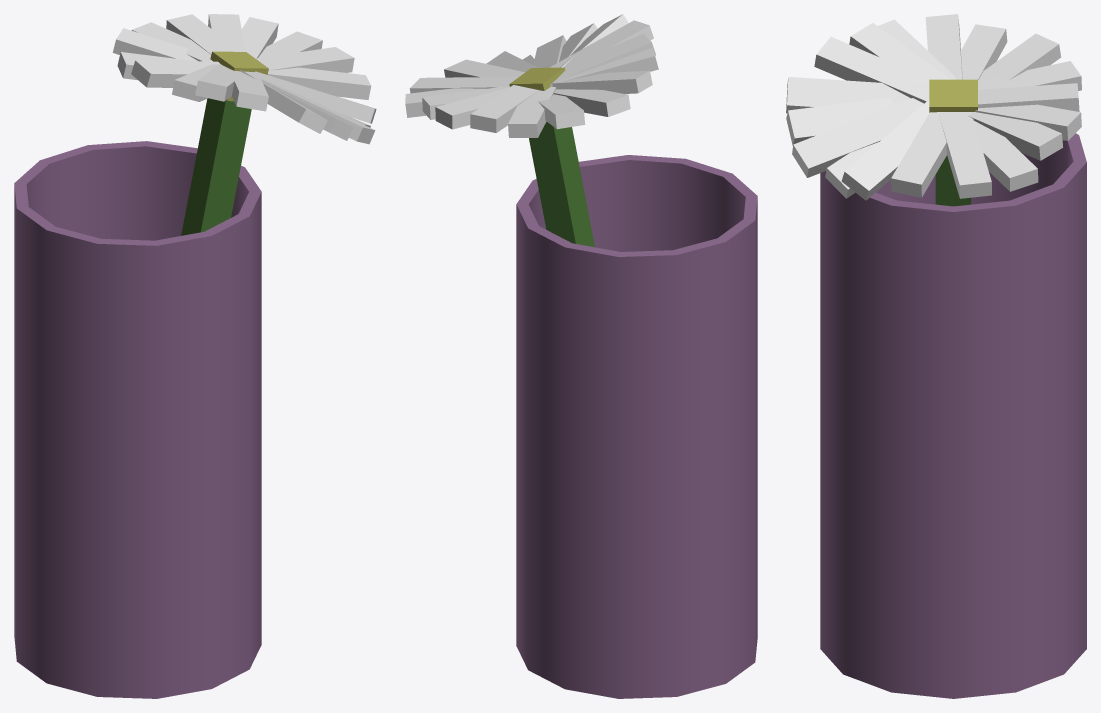
Rendered from potdfleur.fbx.
3 views of the same model, side by side, from view 1: azimuth 30°, elevation 25°; view 2: azimuth 150°, elevation 25°; view 3: azimuth 270°, elevation 25° (orthographic). The views are drawn at different scales.
Visible parts, largest first — view 1: pCylinder1, pCube1, pCube8, pCube9, pCube17, pCube7, pCube15, pCube13, pCube20, pCube3, pCube19, pCube11 (+8 smaller); view 2: pCylinder1, pCube1, pCube13, pCube17, pCube16, pCube14, pCube19, pCube9, pCube20, pCube12, pCube18, pCube15 (+6 smaller); view 3: pCylinder1, pCube5, pCube7, pCube20, pCube9, pCube3, pCube8, pCube4, pCube19, pCube10, pCube11, pCube13 (+9 smaller).
Part boxes in pixels (left/top/right/bottom): pCylinder1: left=14, top=141, right=261, bottom=698; pCube1: left=181, top=98, right=251, bottom=235; pCube8: left=267, top=67, right=371, bottom=99; pCube9: left=256, top=47, right=354, bottom=72; pCube17: left=131, top=60, right=220, bottom=87; pCube7: left=255, top=71, right=376, bottom=123; pCube15: left=112, top=28, right=197, bottom=61; pCube13: left=166, top=14, right=240, bottom=54; pCube20: left=229, top=68, right=268, bottom=111; pCube3: left=240, top=70, right=327, bottom=133; pCube19: left=195, top=64, right=246, bottom=101; pCube11: left=241, top=17, right=278, bottom=58; pCylinder1: left=516, top=155, right=757, bottom=698; pCube1: left=529, top=121, right=594, bottom=247; pCube13: left=470, top=85, right=538, bottom=132; pCube17: left=550, top=70, right=652, bottom=93; pCube16: left=553, top=89, right=630, bottom=116; pCube14: left=508, top=86, right=556, bottom=137; pCube19: left=556, top=33, right=655, bottom=80; pCube9: left=409, top=76, right=518, bottom=93; pCube20: left=550, top=20, right=653, bottom=71; pCube12: left=435, top=87, right=508, bottom=129; pCube18: left=550, top=48, right=658, bottom=86; pCube15: left=538, top=94, right=585, bottom=129; pCylinder1: left=820, top=133, right=1086, bottom=698; pCube5: left=792, top=98, right=923, bottom=177; pCube7: left=841, top=100, right=929, bottom=200; pCube20: left=814, top=37, right=929, bottom=103; pCube9: left=939, top=112, right=991, bottom=198; pCube3: left=786, top=77, right=929, bottom=113; pCube8: left=891, top=112, right=952, bottom=197; pCube4: left=786, top=97, right=893, bottom=145; pCube19: left=849, top=23, right=950, bottom=92; pCube10: left=974, top=121, right=1038, bottom=191; pCube11: left=968, top=112, right=1063, bottom=160; pCube13: left=978, top=83, right=1079, bottom=111.
Bounding box in the file's own units: 3.01 × 5.19 × 2.24.
